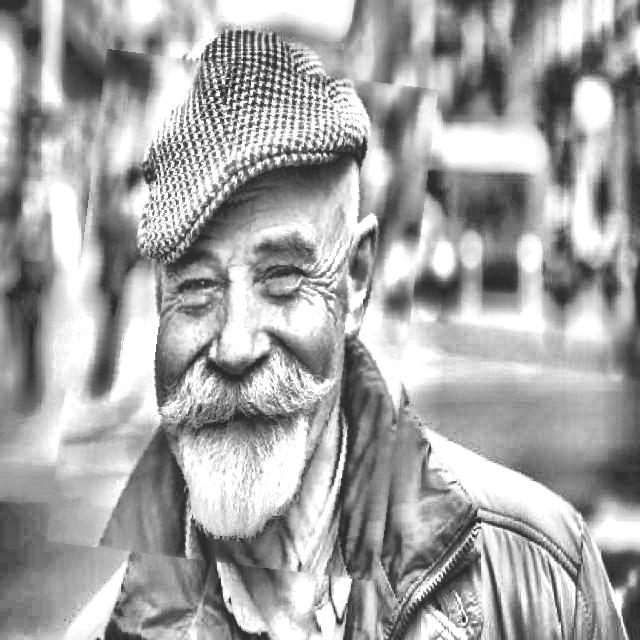happy: (62, 59, 424, 573)
